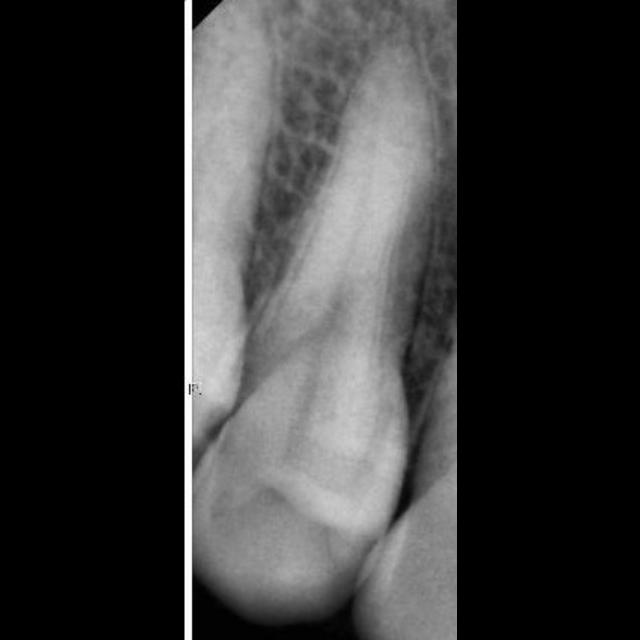tooth: (192, 35, 439, 620)
